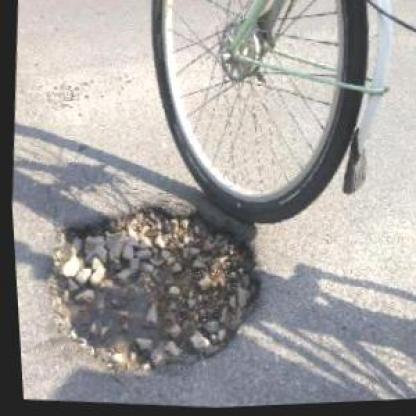pothole: (33, 188, 272, 387)
